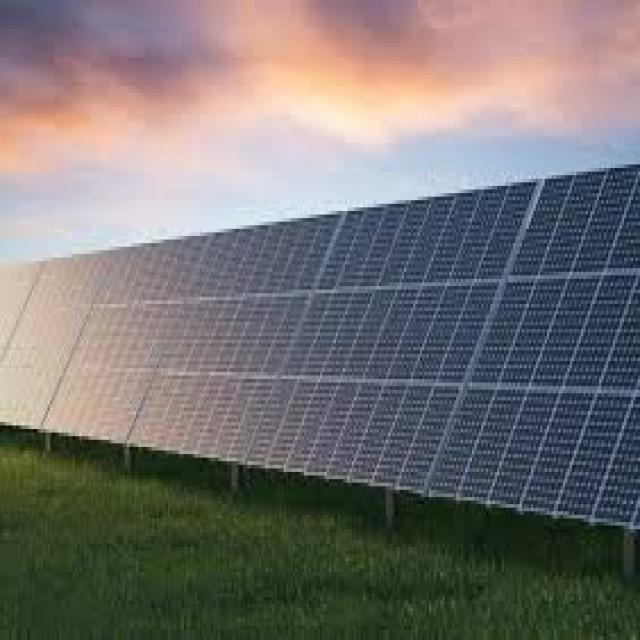clean-solar-panel: (1, 165, 640, 529)
